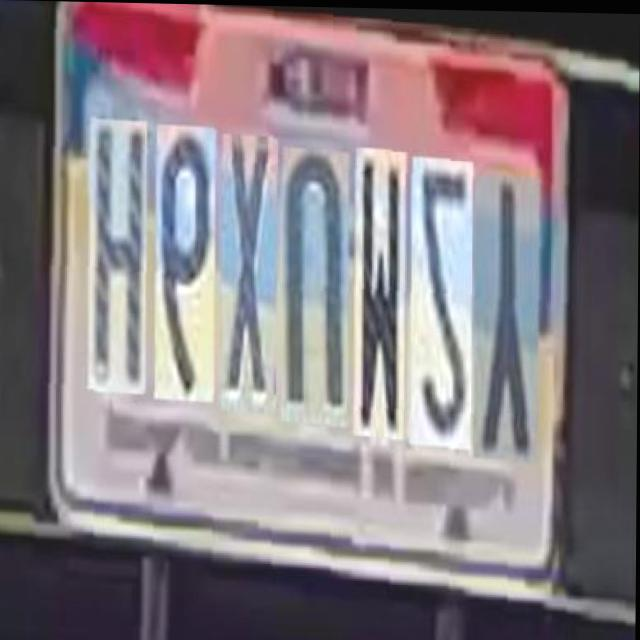2: (407, 156, 473, 448)
6: (153, 136, 215, 413)
h: (86, 132, 147, 407)
m: (352, 151, 406, 441)
u: (280, 153, 349, 429)
x: (218, 142, 277, 422)
y: (472, 172, 539, 458)
